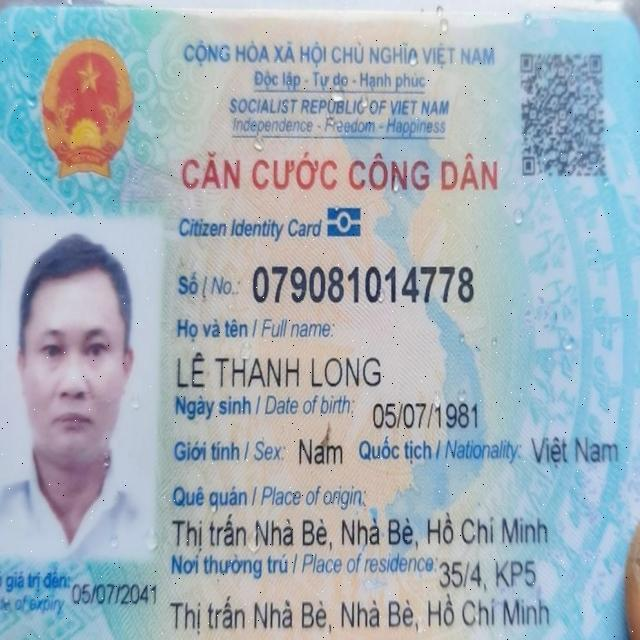current_place: (168, 590, 554, 636), (438, 556, 539, 591)
dob: (371, 398, 481, 433)
expire_date: (72, 581, 159, 610)
gender: (297, 434, 347, 471)
id: (251, 260, 481, 308)
name: (172, 347, 387, 394)
nationality: (528, 431, 623, 471)
origin_place: (170, 510, 554, 553)
